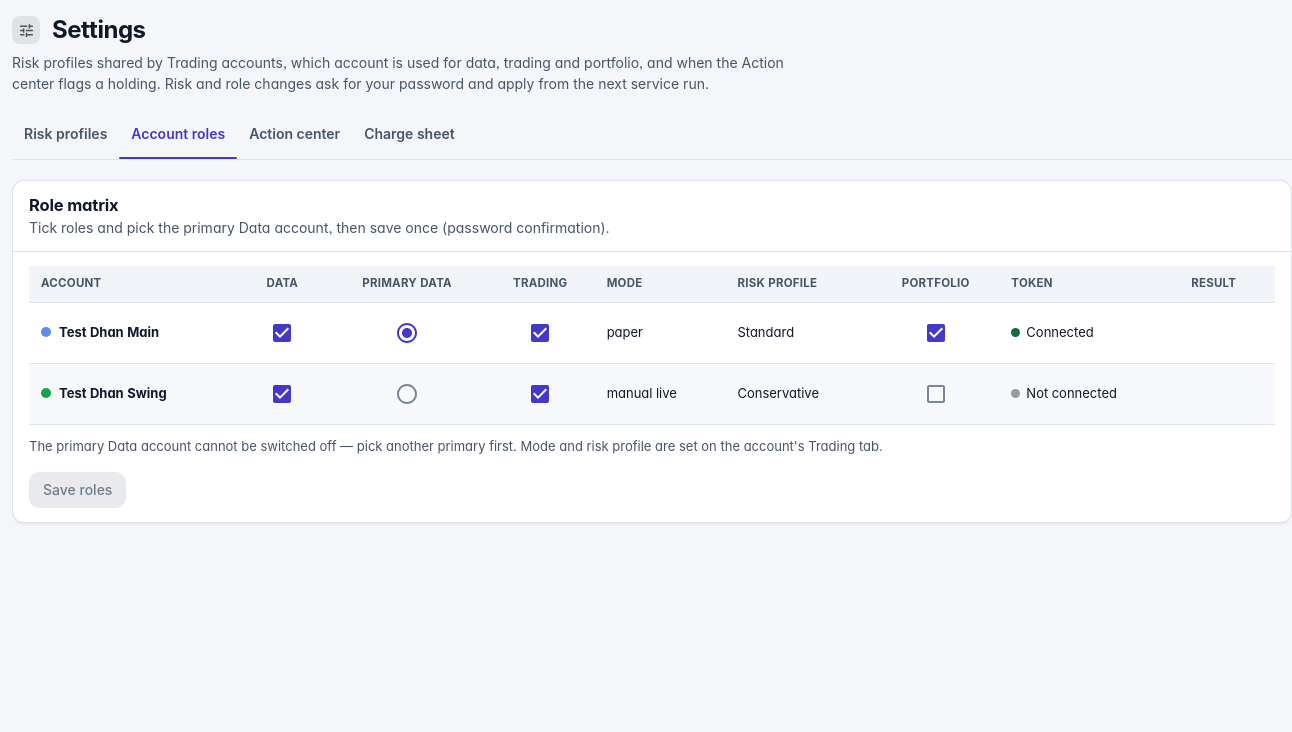
Role matrix › keeps Save off until something changed
expect the button "Save roles" is disabled: met, box [29, 472, 126, 508]
Click the checkbox named "Portfolio — Test Dhan Swing": (936, 394) [924, 382, 948, 406]
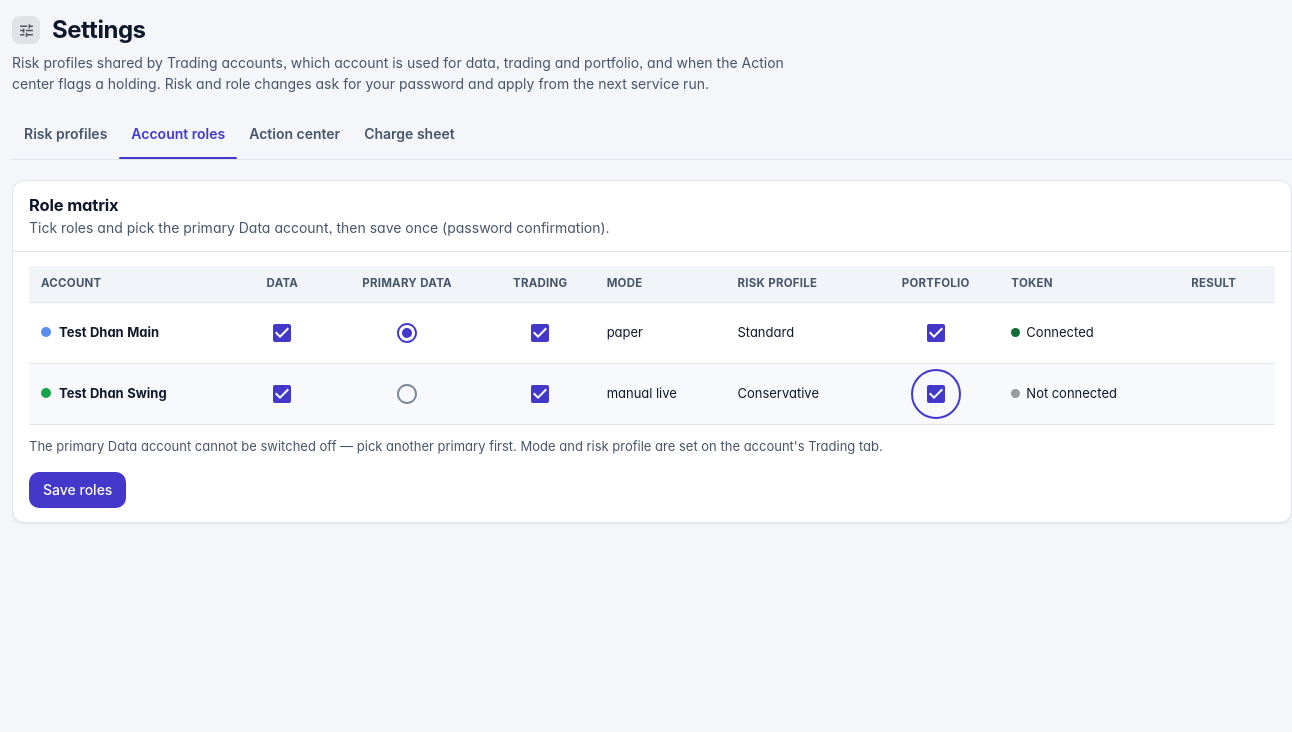
expect the button "Save roles" is enabled: met, box [29, 472, 126, 508]
